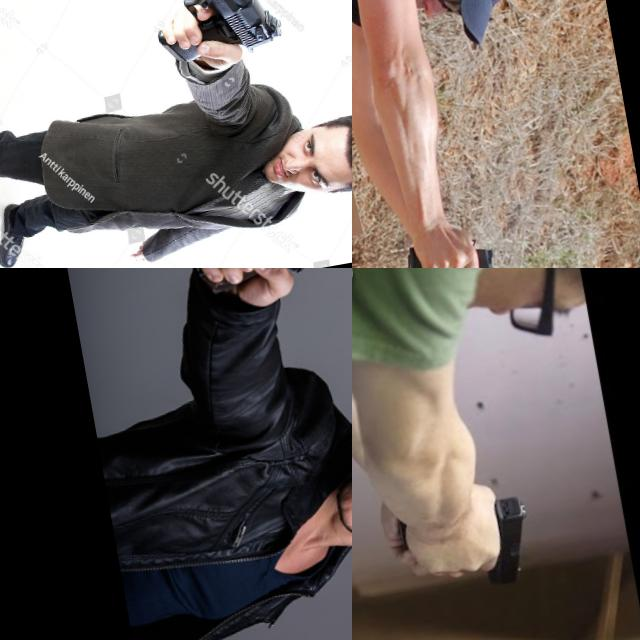handgun: (130, 0, 289, 93), (230, 268, 332, 344), (470, 488, 540, 593), (445, 230, 513, 268)
